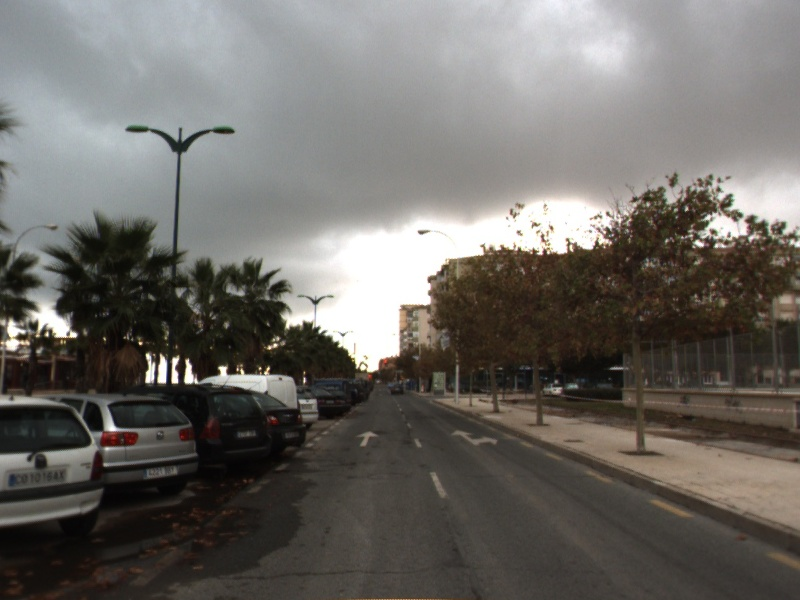STRAIGHT: (354, 429, 382, 448)
STRAIGHT_RIGHT: (449, 428, 500, 447)
